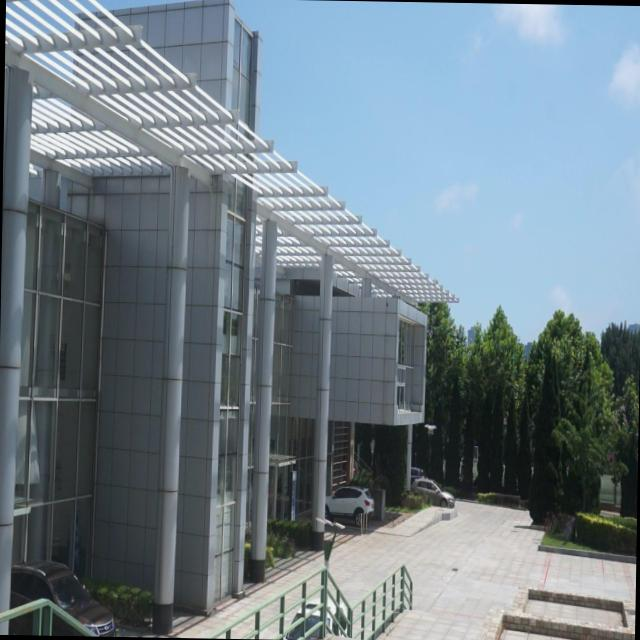drone: (421, 414, 437, 438)
